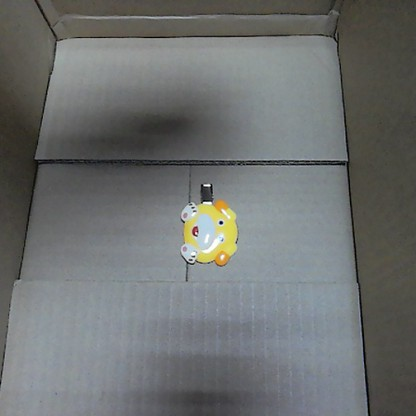dogclip: (178, 179, 240, 268)
